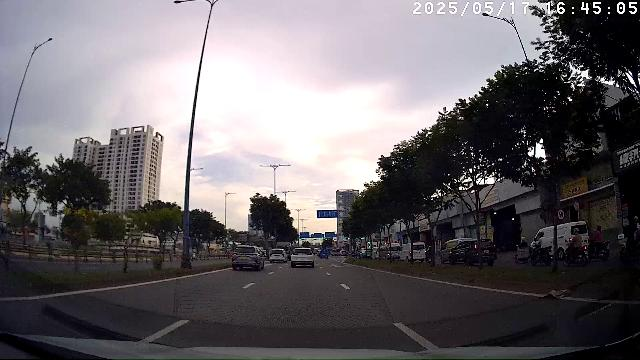127-toc-do-toi-da-50: (557, 208, 566, 221)
